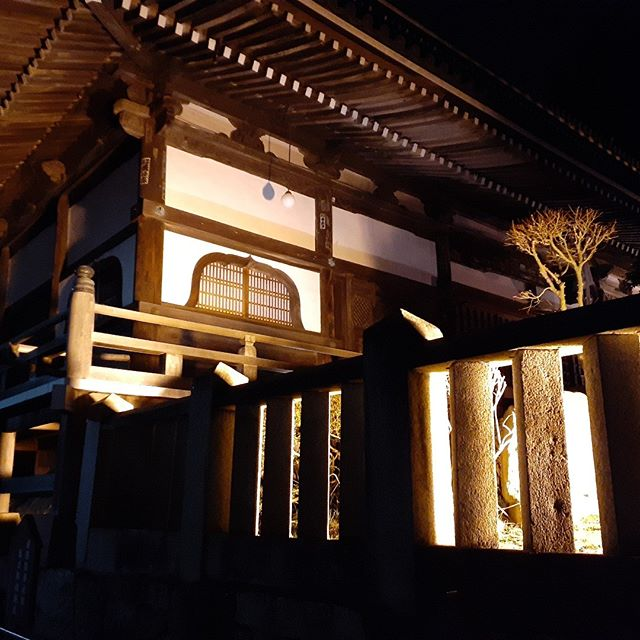building: (1, 1, 640, 640)
